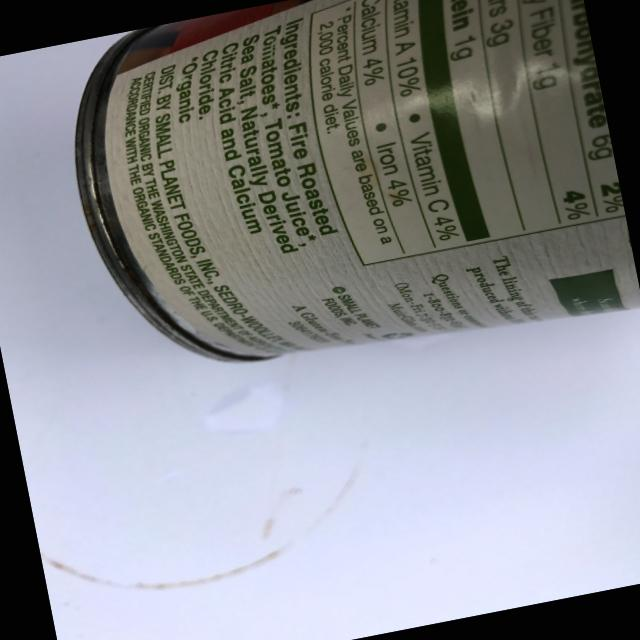Metal: (36, 0, 640, 422)
